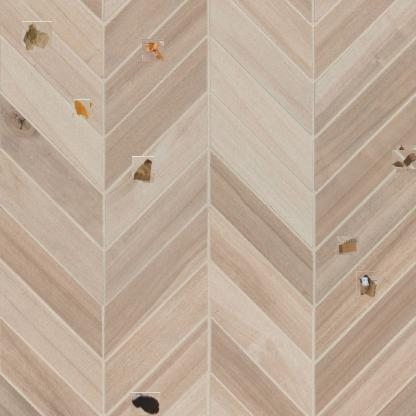dirty: (22, 21, 52, 52), (356, 271, 378, 299), (131, 158, 156, 182), (394, 147, 416, 171), (142, 40, 164, 62), (338, 235, 358, 256)
liquid: (130, 392, 160, 415), (73, 101, 92, 119)
